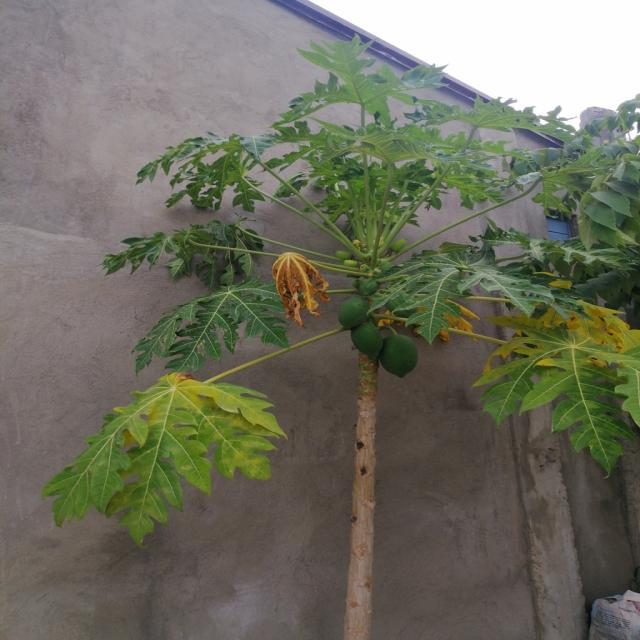Papaya-Tree: (43, 21, 640, 640)
